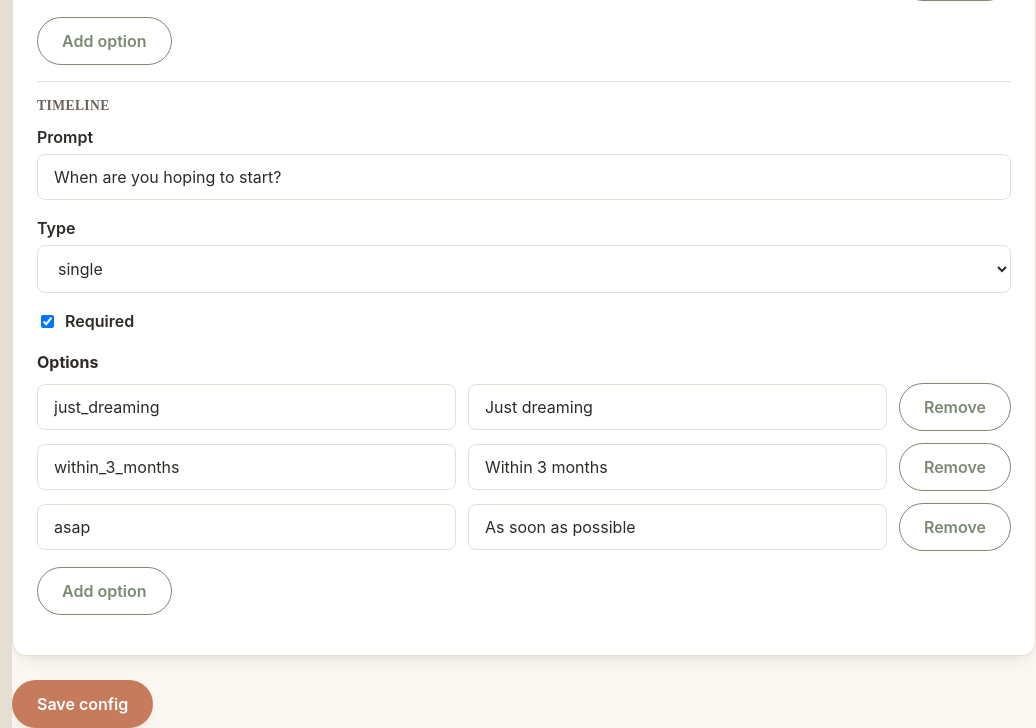
ConfigPage › shows an error message when saving fails
(page scrolled)
Click the button "Save config".
click(83, 704)  # box [12,680,153,727]
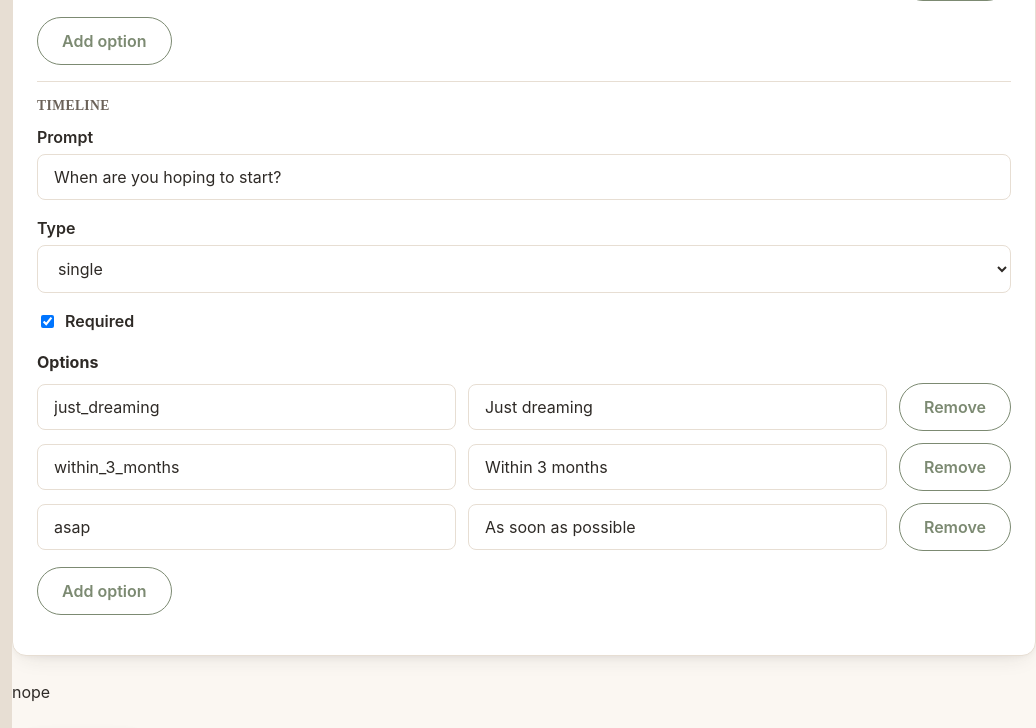
Now the message "nope" is shown, box [12,682,50,702]
